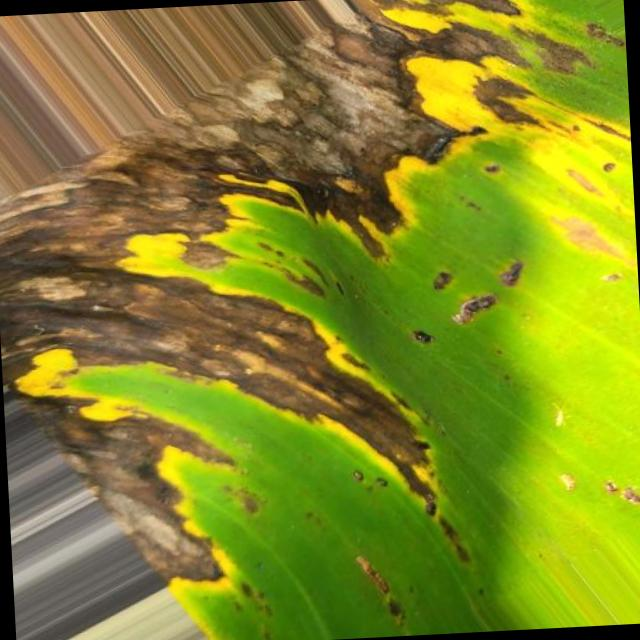Banana_Black_Sigatoka: (0, 0, 564, 578)
